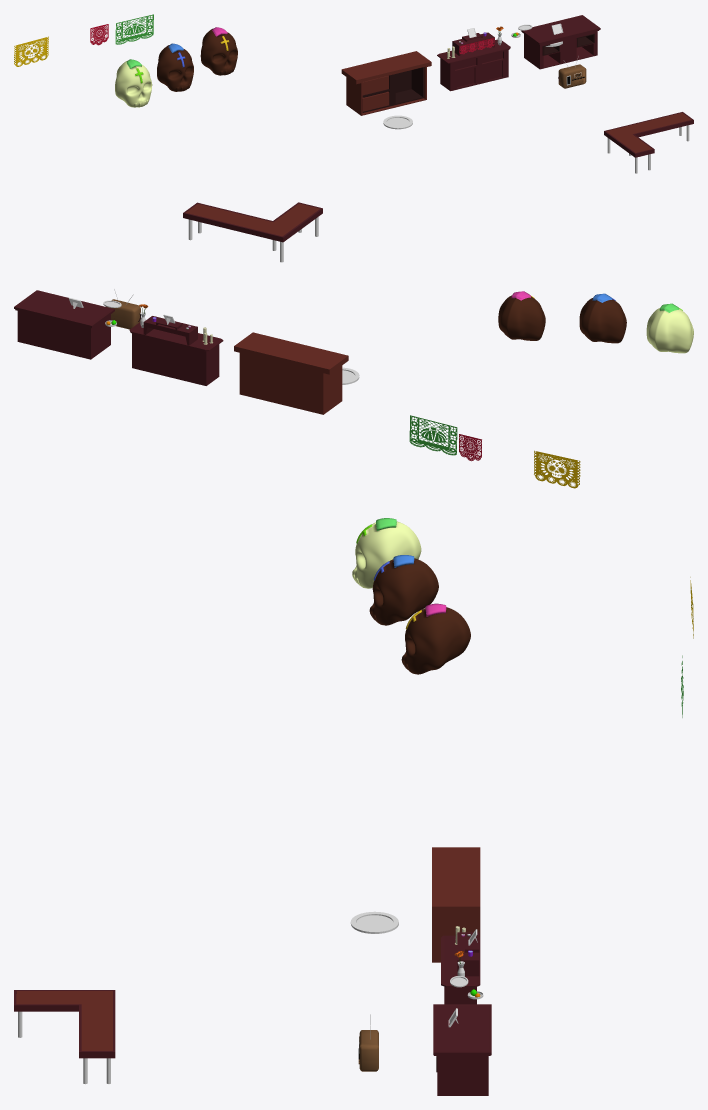
Rendered from AltarDeMuerto.fbx.
The picture shows the model from 3 angles, top to bottom: view 1: azimuth 30°, elevation 25°; view 2: azimuth 150°, elevation 25°; view 3: azimuth 270°, elevation 25°; orthographic projection. The views are drawn at different scales.
Parts seen in each view (by area): view 1: Cube.007, Cube.011, Cube.010, CalaveraAV, CalaveraCR, CalaveraCA, TablaMesa, PapelPicado, BordeMesa, PapelPicado.004, Cube, plato plano (+2 smaller); view 2: Cube.007, Cube.011, Cube.010, CalaveraCR, CalaveraCA, CalaveraAV, TablaMesa, PapelPicado, PapelPicado.004, BordeMesa, Cube, mesita (+1 smaller); view 3: Cube.011, Cube.007, CalaveraCR, CalaveraCA, TablaMesa, CalaveraAV, Cube.010, BordeMesa, plato plano, Cube.
Boxes of the visible parts, box(x1,y1,x2,y2) form: Cube.007: box(341, 51, 431, 115); Cube.011: box(521, 15, 600, 69); Cube.010: box(437, 39, 510, 91); CalaveraAV: box(115, 59, 152, 107); CalaveraCR: box(200, 27, 237, 75); CalaveraCA: box(157, 43, 193, 91); TablaMesa: box(606, 113, 691, 152); PapelPicado: box(115, 14, 153, 44); BordeMesa: box(604, 112, 693, 157); PapelPicado.004: box(14, 36, 48, 66); Cube: box(558, 56, 586, 88); plato plano: box(383, 115, 412, 129); Cube.007: box(234, 332, 348, 414); Cube.011: box(14, 290, 114, 359); Cube.010: box(129, 322, 223, 385); CalaveraCR: box(498, 291, 545, 340); CalaveraCA: box(579, 293, 626, 343); CalaveraAV: box(646, 303, 693, 353); TablaMesa: box(186, 203, 319, 236); PapelPicado: box(409, 415, 457, 455); PapelPicado.004: box(534, 450, 580, 488); BordeMesa: box(183, 202, 322, 242); Cube: box(105, 289, 140, 329); mesita: box(143, 316, 197, 345); Cube.011: box(433, 1004, 491, 1095); Cube.007: box(432, 847, 480, 962); CalaveraCR: box(401, 603, 470, 674); CalaveraCA: box(369, 555, 438, 625); TablaMesa: box(16, 991, 112, 1050); CalaveraAV: box(352, 518, 421, 588); Cube.010: box(441, 935, 480, 1004); BordeMesa: box(14, 990, 115, 1058); plato plano: box(350, 911, 398, 933); Cube: box(358, 1014, 378, 1071).
Size of the model in its own units: 3920 by 932 by 2821.
37 materials, 7 textured.
